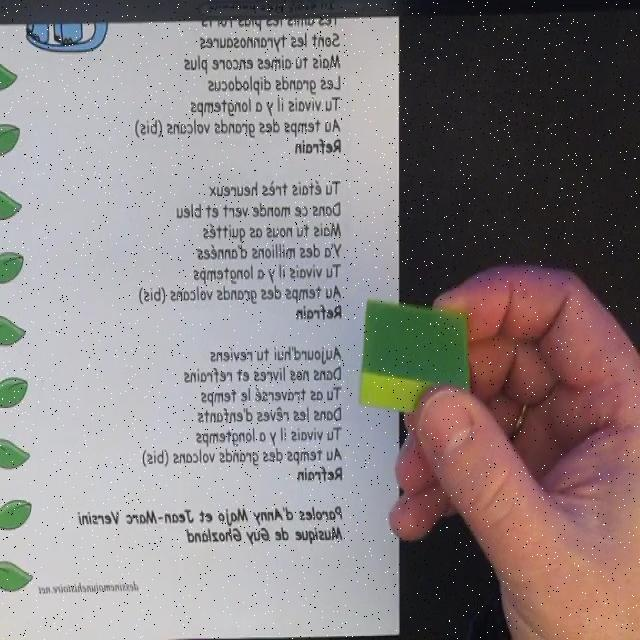square: (358, 299, 469, 414)
